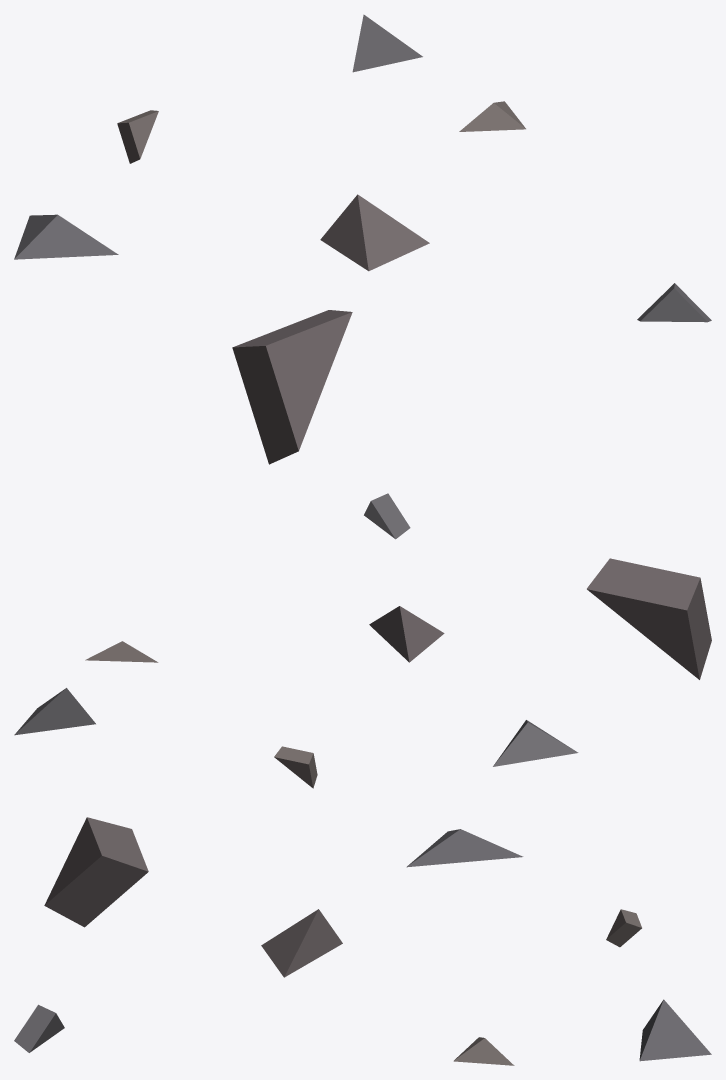
Rendered from Rocks_Sharp_s_07.fbx.
3 views of the same model, one above another, from view 1: azimuth 30°, elevation 25°; view 2: azimuth 150°, elevation 25°; view 3: azimuth 270°, elevation 25° (orthographic). The views are drawn at different scales.
Visible parts, largest first — view 1: Rocks_Sharp_s_07; view 2: Rocks_Sharp_s_07; view 3: Rocks_Sharp_s_07.
Boxes of the visible parts, left/top/right/bottom form: Rocks_Sharp_s_07: left=14, top=14, right=711, bottom=464; Rocks_Sharp_s_07: left=14, top=493, right=711, bottom=788; Rocks_Sharp_s_07: left=14, top=817, right=711, bottom=1065.
Bounding box in the file's own units: 112 × 25.48 × 139.
